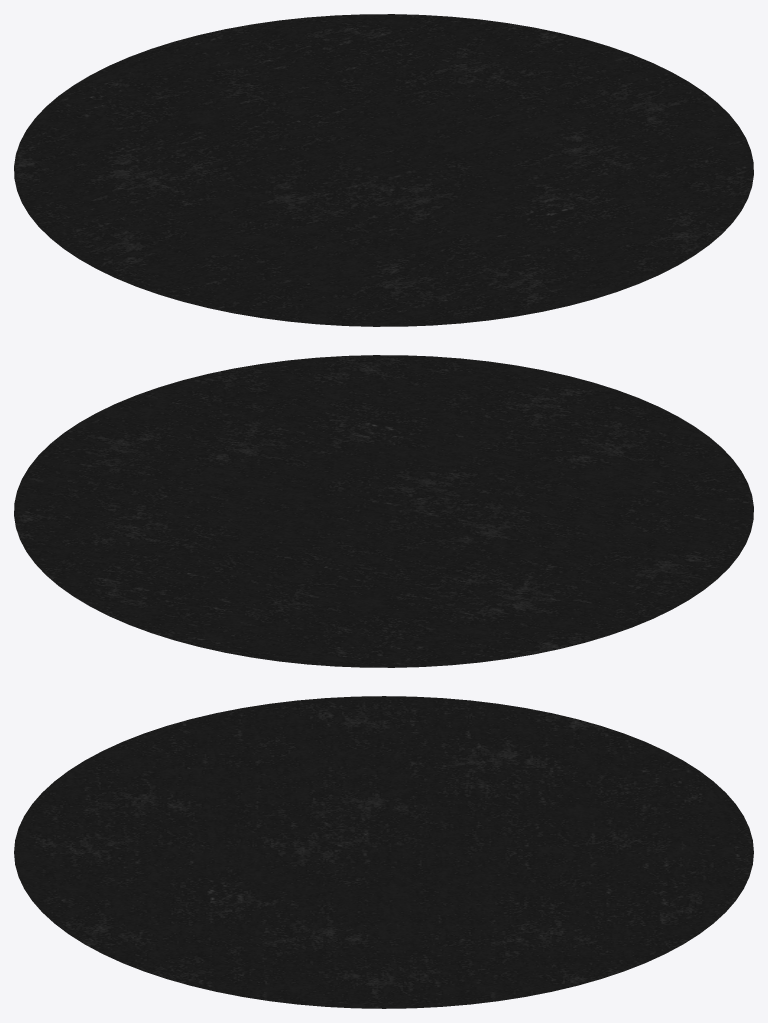
Rendered from ground.glb.
3 views of the same model, one above another, from view 1: azimuth 30°, elevation 25°; view 2: azimuth 150°, elevation 25°; view 3: azimuth 270°, elevation 25° (orthographic).
Visible parts, largest first — view 1: polySurface25; view 2: polySurface25; view 3: polySurface25.
Part boxes in pixels (left/top/right/bottom): polySurface25: left=14, top=14, right=753, bottom=326; polySurface25: left=14, top=355, right=753, bottom=667; polySurface25: left=14, top=696, right=753, bottom=1008.
Size of the model in its own units: 26.47 by 1.06 by 26.47.
Materials: 2 (1 with a texture image).
